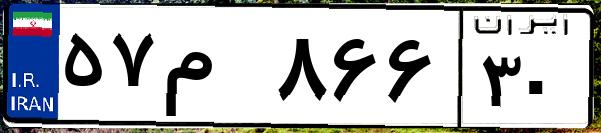0: (525, 38, 570, 115)
3: (475, 38, 525, 113)
5: (57, 26, 110, 100)
6: (385, 28, 445, 110), (330, 28, 385, 110)
7: (110, 28, 158, 98)
8: (270, 28, 330, 110)
م: (158, 20, 270, 120)
